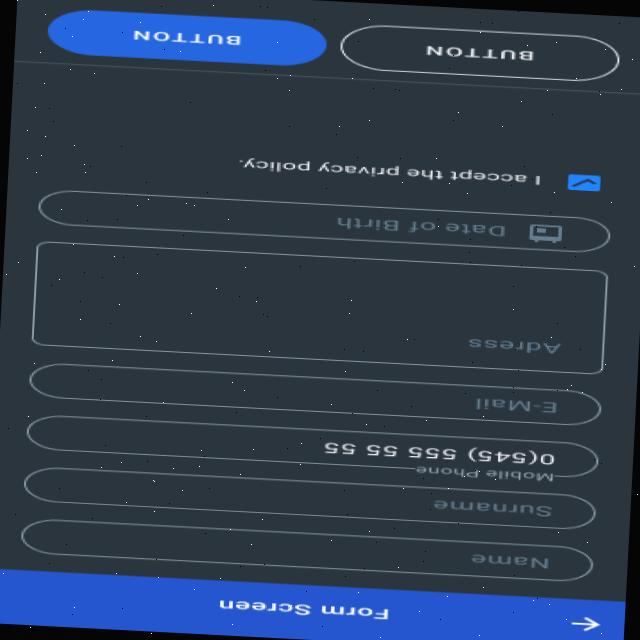QLabel: (216, 596, 392, 621), (421, 42, 544, 64), (128, 27, 244, 45)
VAppBar: (0, 567, 625, 640)
VBtn: (338, 20, 621, 84), (45, 4, 328, 68)
VCheckbox: (232, 152, 609, 194)
VFooter: (13, 0, 640, 94)
VIcon: (566, 614, 604, 632)
VInlineDatepicker: (36, 185, 610, 255)
VTextField: (24, 411, 600, 485), (21, 464, 600, 533), (26, 359, 600, 428), (18, 516, 596, 584)
VTextarea: (27, 238, 610, 377)
